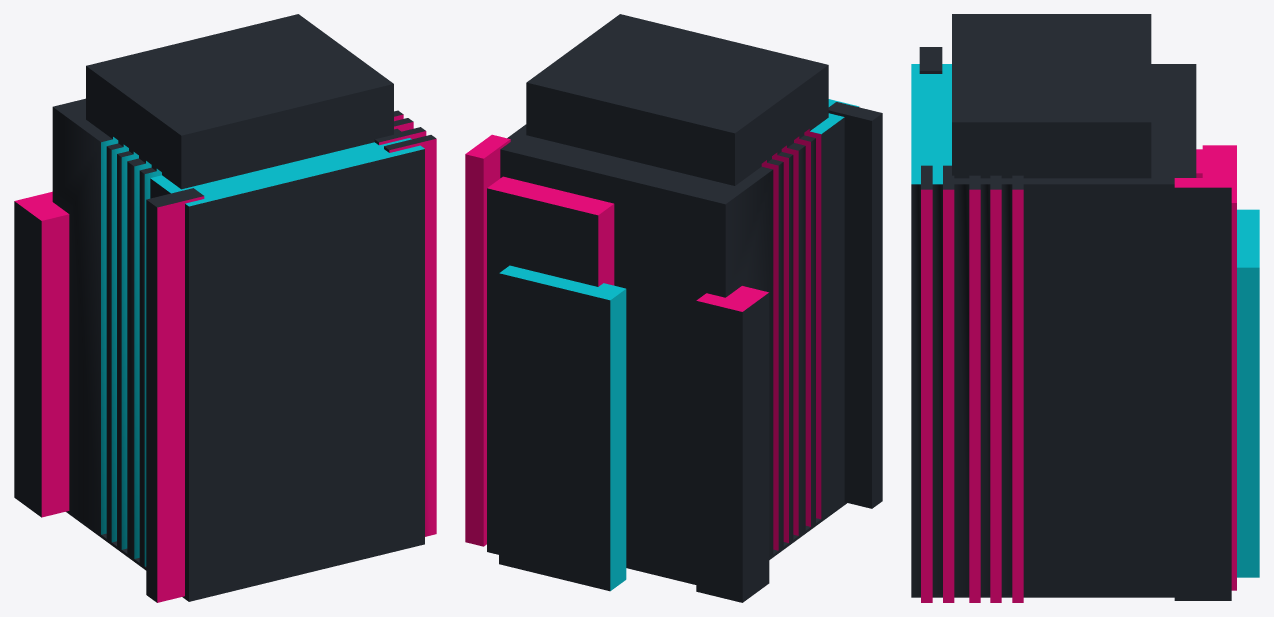
File: Building01.fbx
The picture shows the model from 3 angles, left to right: view 1: azimuth 30°, elevation 25°; view 2: azimuth 150°, elevation 25°; view 3: azimuth 270°, elevation 25°; orthographic projection. The views are drawn at different scales.
Parts seen in each view (by area): view 1: Box016; view 2: Box016; view 3: Box016.
Boxes of the visible parts, x1,y1,x2,y2 form: Box016: (14,14,436,602); Box016: (465,14,882,602); Box016: (911,14,1259,602).
Bounding box in the file's own units: 151 × 231 × 155.
